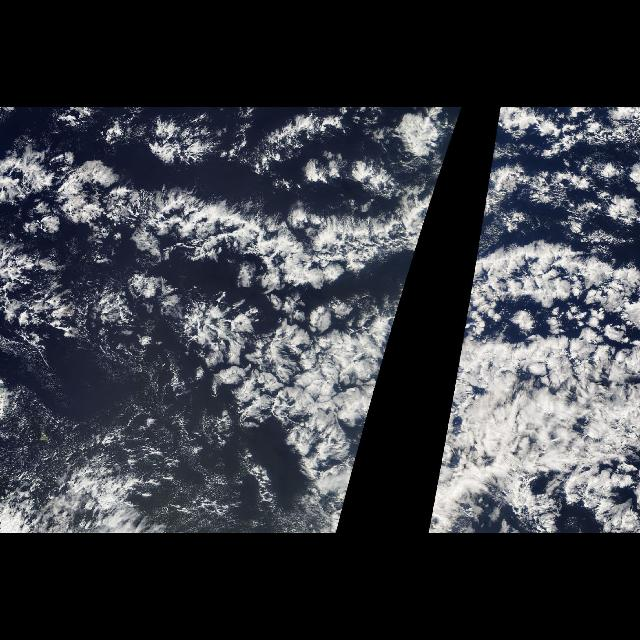Fish: (8, 127, 458, 513), (432, 127, 640, 513)
Flower: (106, 114, 460, 192)
Gravel: (33, 398, 275, 492)
Sugar: (112, 348, 244, 522)
